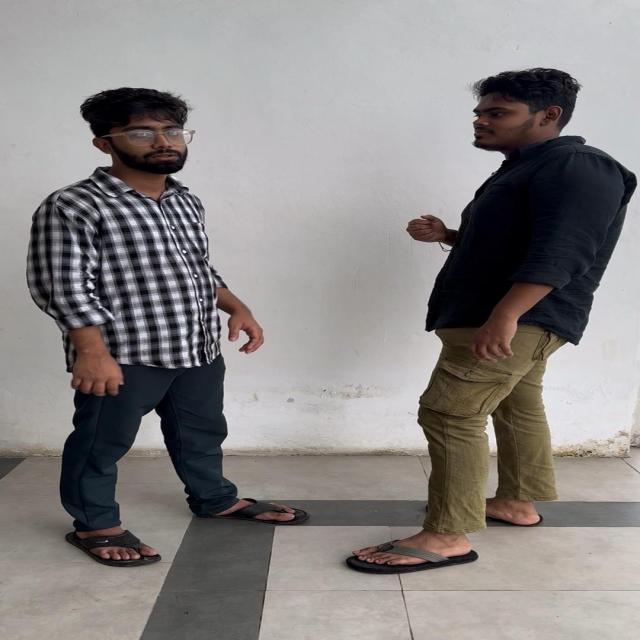fight: (22, 6, 640, 582)
